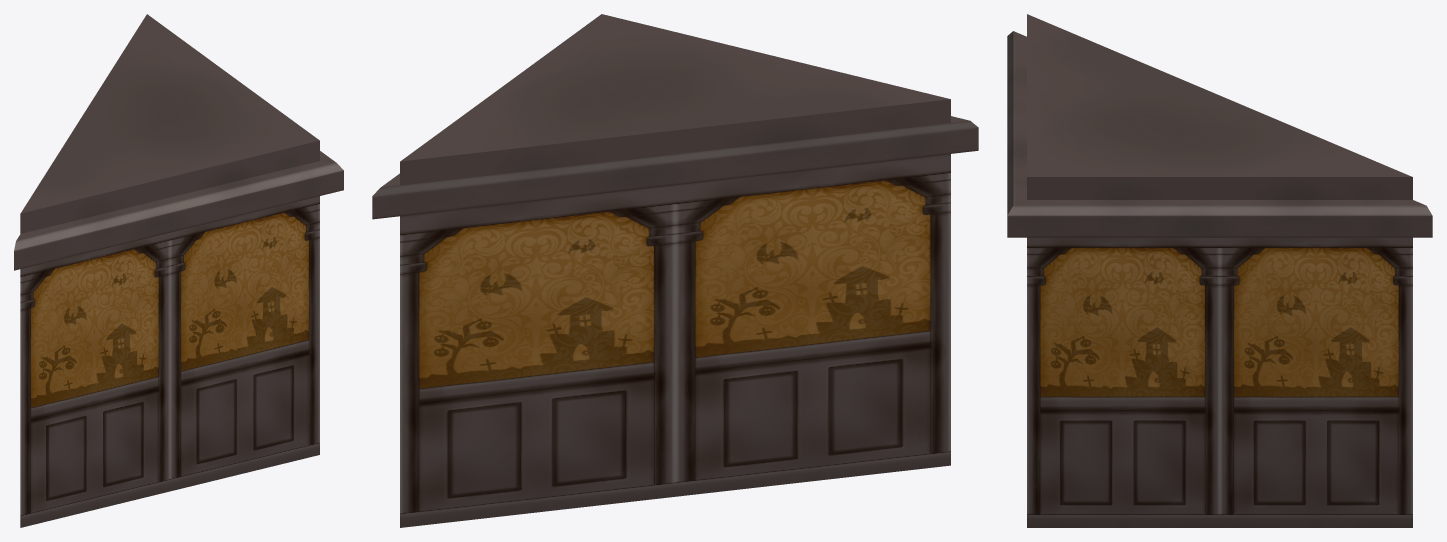
Rendered from wall_tri.fbx.
3 renders of one model, left to right at view 1: azimuth 30°, elevation 25°; view 2: azimuth 150°, elevation 25°; view 3: azimuth 270°, elevation 25°, orthographic. The views are drawn at different scales.
Parts seen in each view (by area): view 1: polySurface15; view 2: polySurface15; view 3: polySurface15.
Boxes of the visible parts, left/top/right/bottom form: polySurface15: left=14, top=14, right=343, bottom=527; polySurface15: left=372, top=14, right=978, bottom=527; polySurface15: left=1007, top=14, right=1432, bottom=527.
Bounding box in the file's own units: 4.7 × 4.28 × 4.7.
